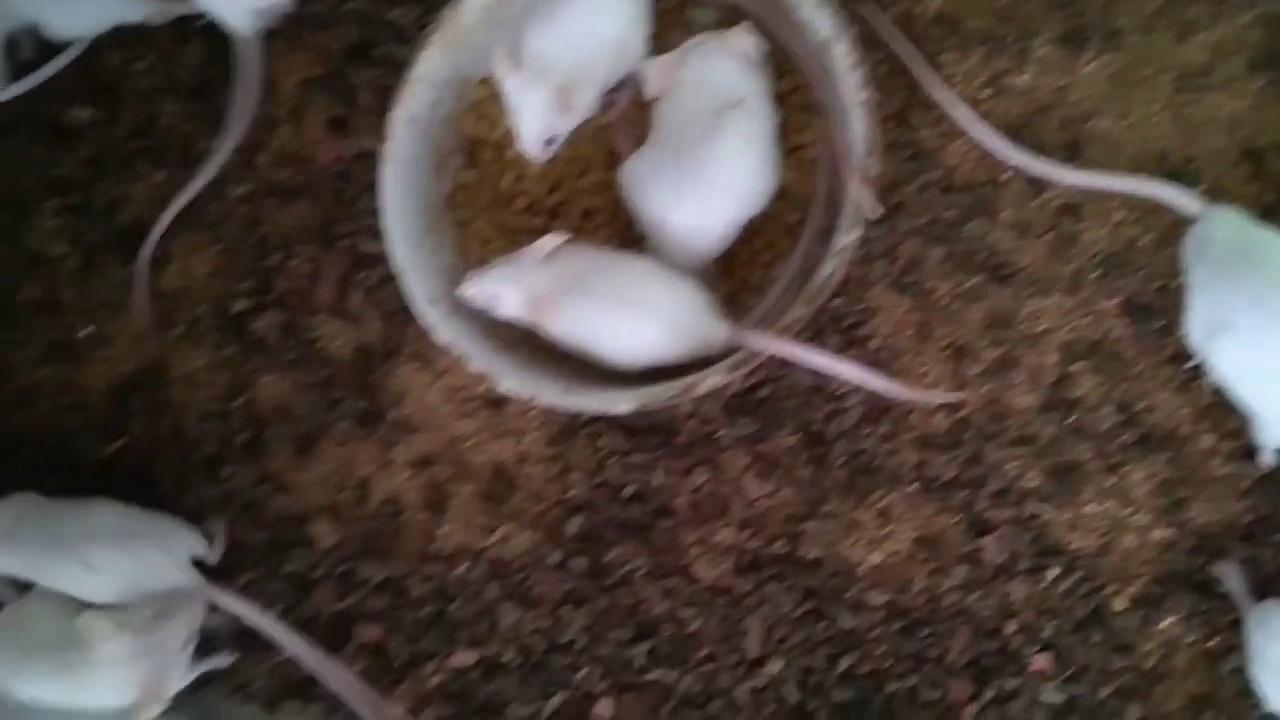rat: (620, 21, 788, 272), (455, 232, 731, 370), (489, 0, 653, 168), (0, 589, 206, 720), (1179, 202, 1280, 466), (0, 492, 209, 607)
